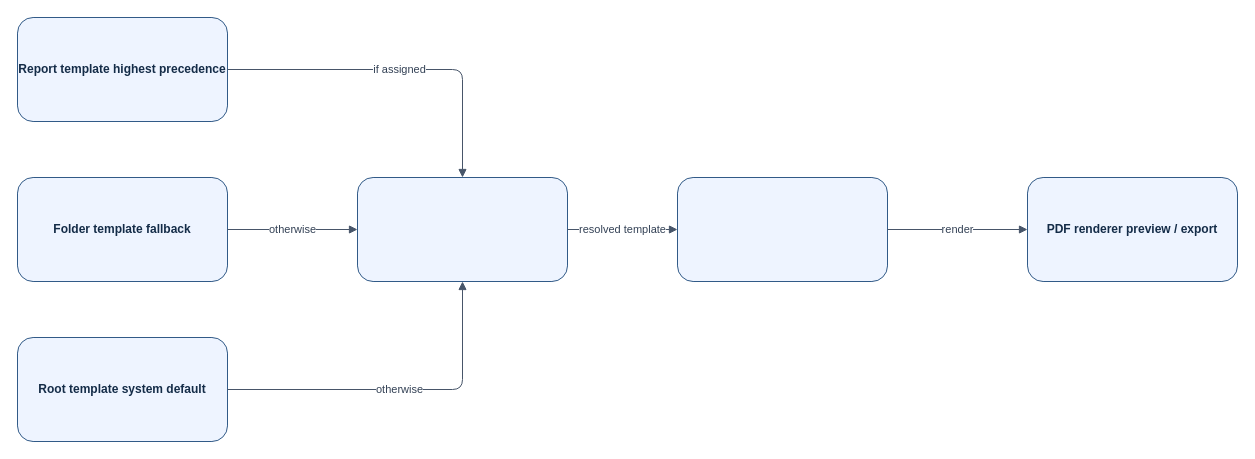
This 1255x459 diagram has some shape labels left out. Each missing label, with the box of its shape:
Layout model cover / TOC / sections / objects: (676, 176, 888, 282)
Template resolver report > folder > root: (356, 176, 568, 282)
